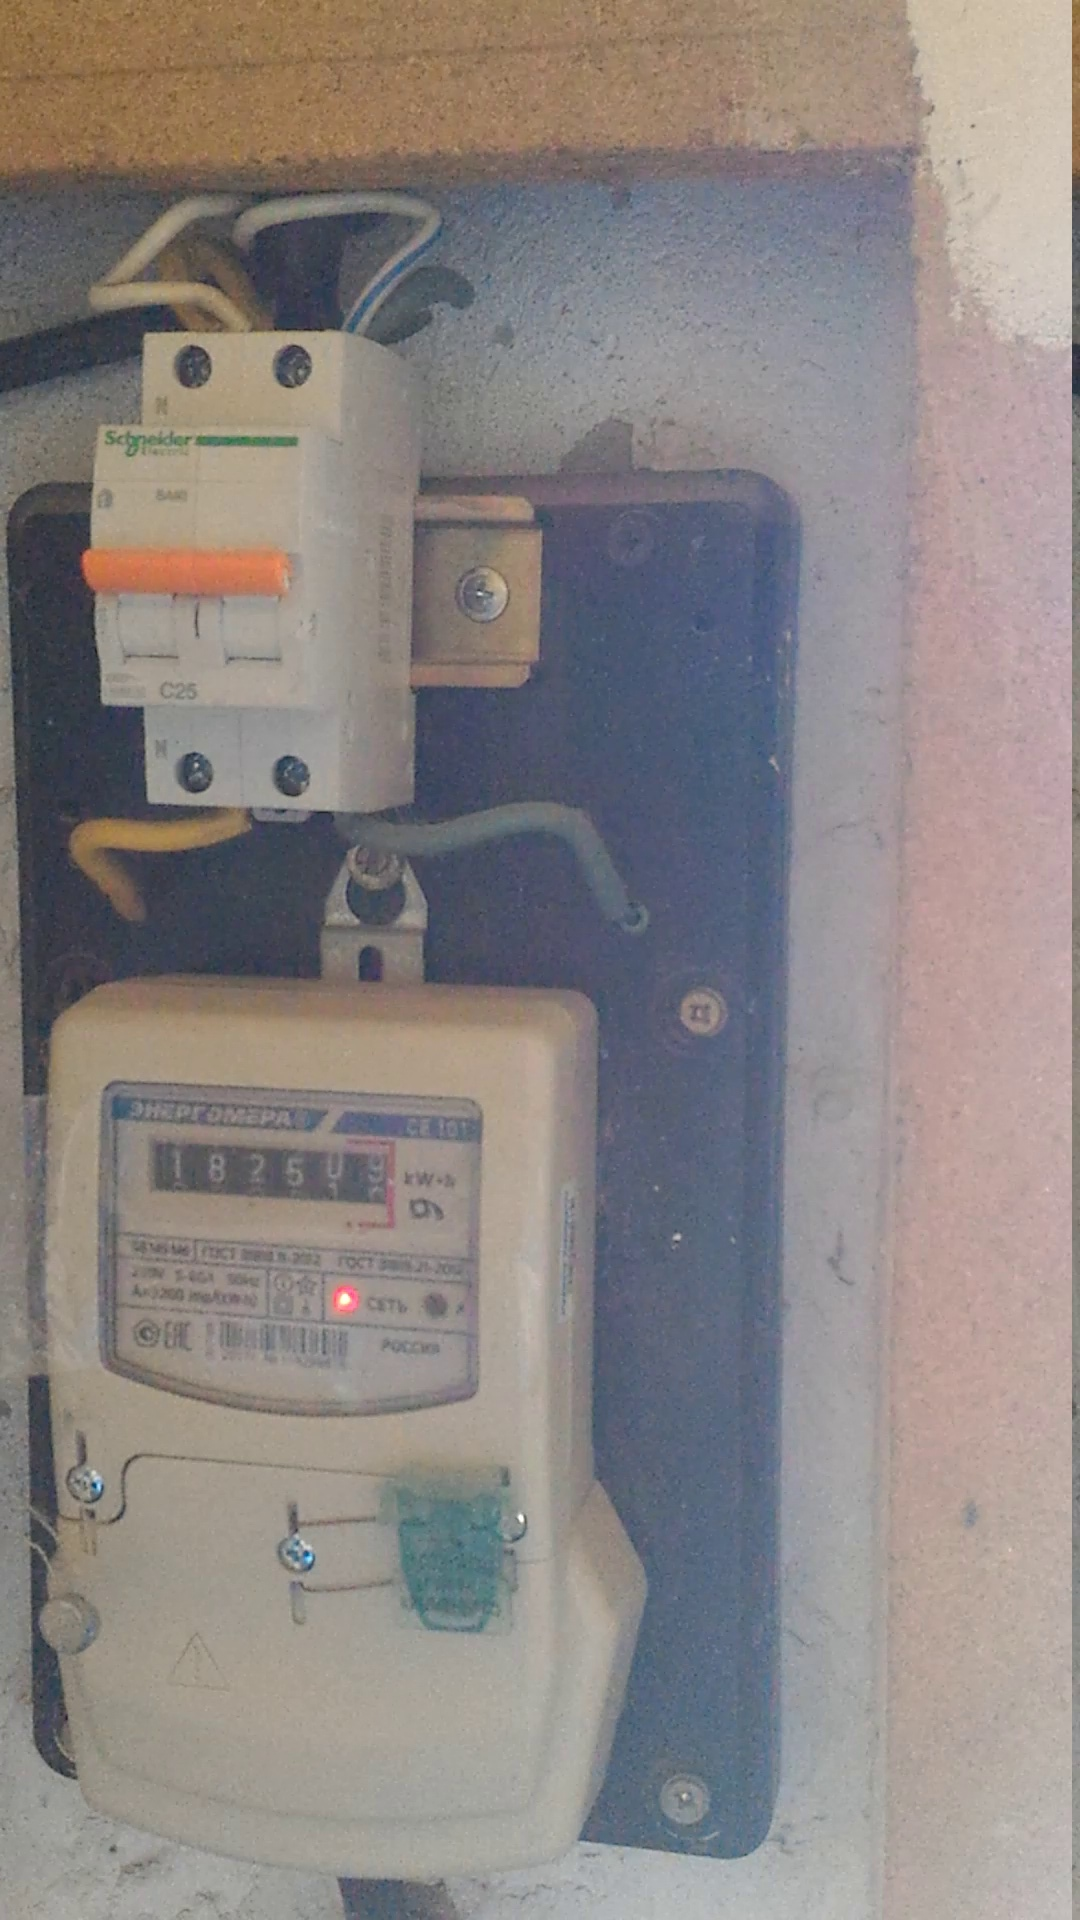counter: (42, 1010, 624, 1892)
counter_screen: (149, 1138, 386, 1208)
